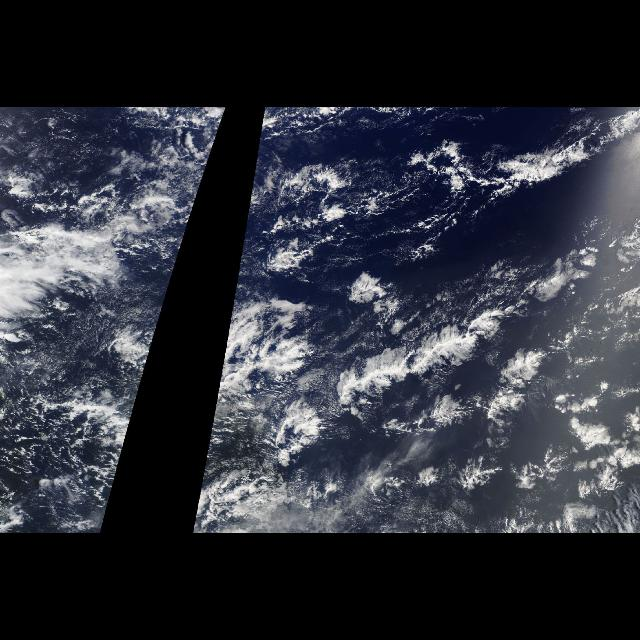Fish: (219, 211, 623, 491)
Flower: (390, 362, 640, 522)
Sugar: (2, 107, 226, 207), (246, 107, 352, 207)
